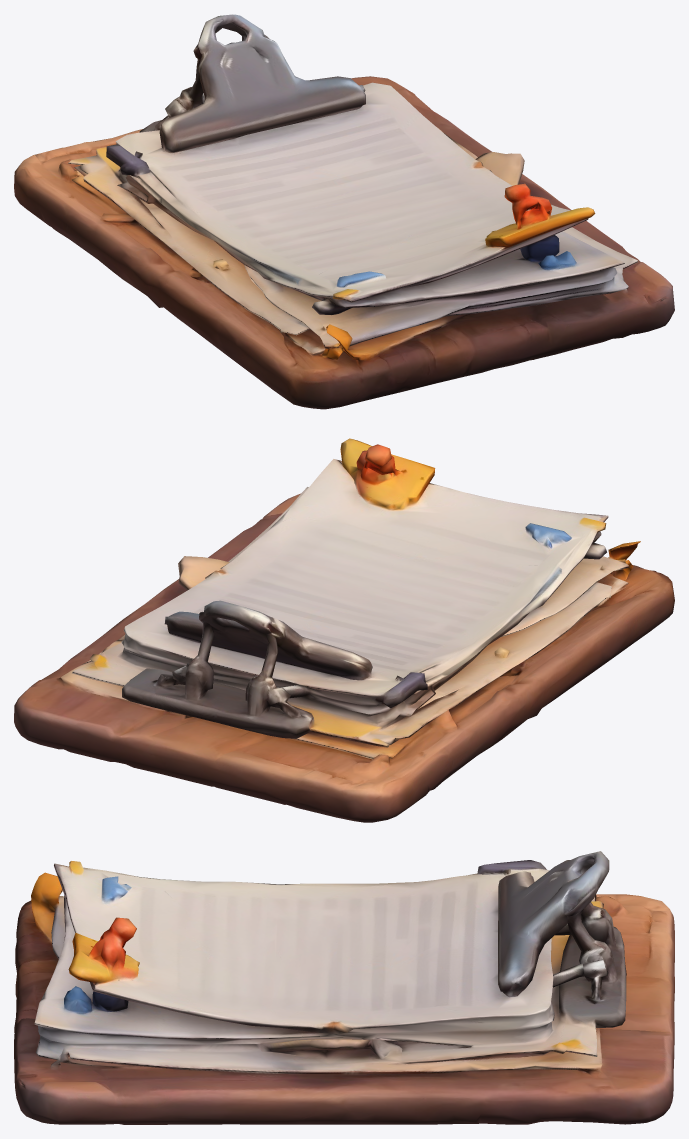
The model's file is clipboard.glb.
3 views of the same model, one above another, from view 1: azimuth 30°, elevation 25°; view 2: azimuth 150°, elevation 25°; view 3: azimuth 270°, elevation 25° (orthographic). The views are drawn at different scales.
Parts seen in each view (by area): view 1: clipboard / mesh; view 2: clipboard / mesh; view 3: clipboard / mesh.
Boxes of the visible parts, x1,y1,x2,y2 form: clipboard / mesh: [14, 14, 674, 409]; clipboard / mesh: [14, 438, 674, 822]; clipboard / mesh: [14, 851, 674, 1124].
Bounding box in the file's own units: 0.2469 × 0.0996 × 0.34.
Materials: 1 (1 with a texture image).
